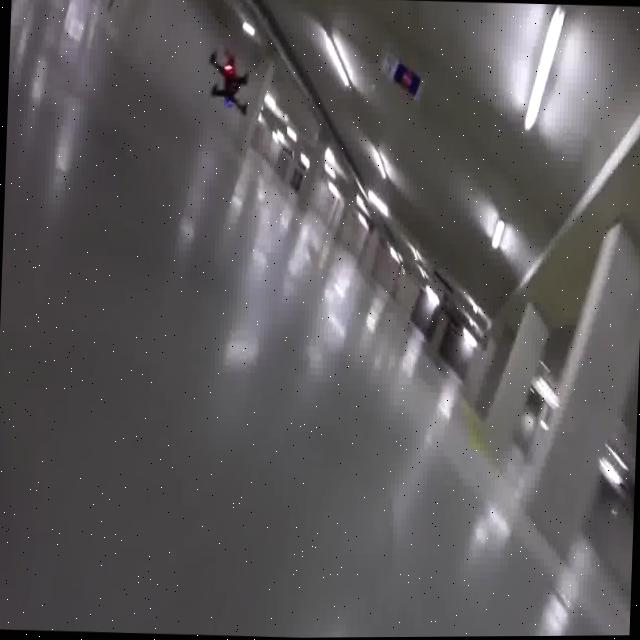drone: (185, 23, 272, 143)
